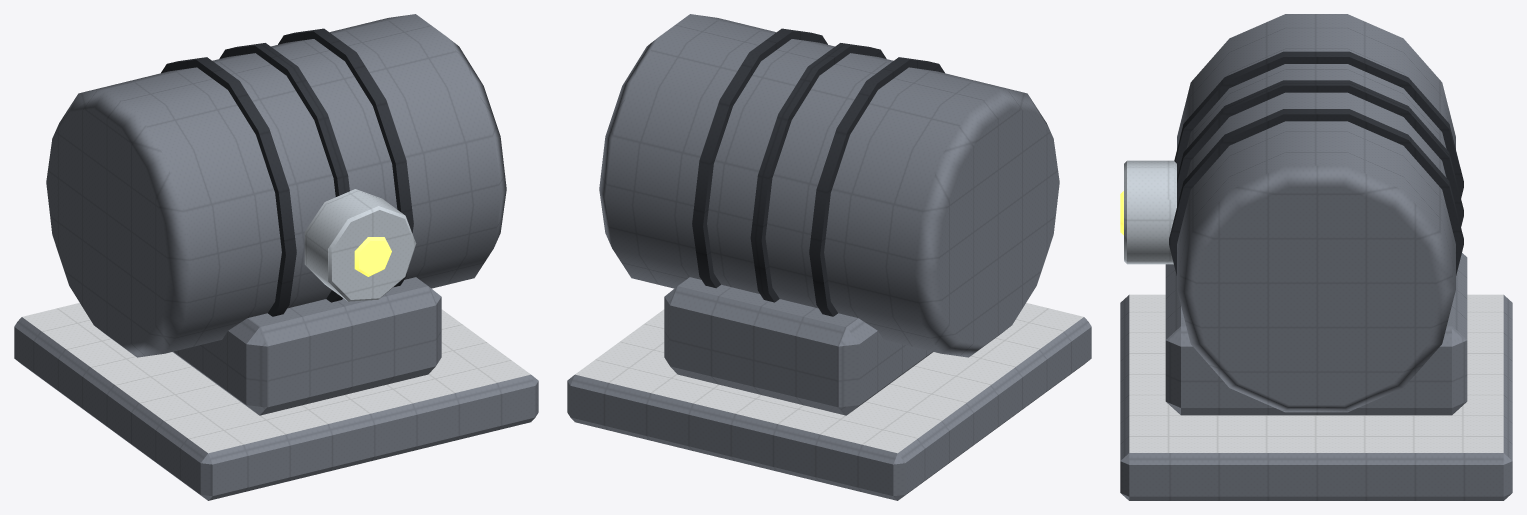
The model's file is R4X_DrivePower_LOD1.glb.
3 views of the same model, side by side, from view 1: azimuth 30°, elevation 25°; view 2: azimuth 150°, elevation 25°; view 3: azimuth 270°, elevation 25° (orthographic).
Parts seen in each view (by area): view 1: R4X_DrivePower_LOD1; view 2: R4X_DrivePower_LOD1; view 3: R4X_DrivePower_LOD1.
Part boxes in pixels (x1=…): R4X_DrivePower_LOD1: x1=14, y1=14, x2=538, y2=500; R4X_DrivePower_LOD1: x1=567, y1=14, x2=1091, y2=500; R4X_DrivePower_LOD1: x1=1120, y1=14, x2=1512, y2=500.
Size of the model in its own units: 0.52 by 0.4956 by 0.52.
5 materials, 4 textured.
